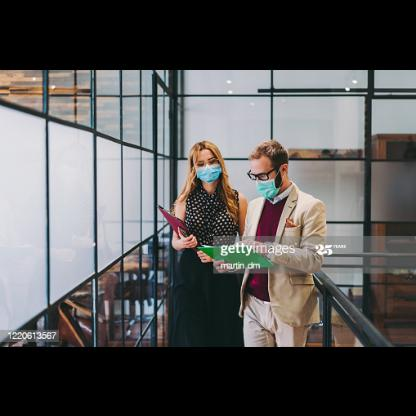Surgical Mask: (249, 137, 291, 199), (184, 143, 224, 183)
